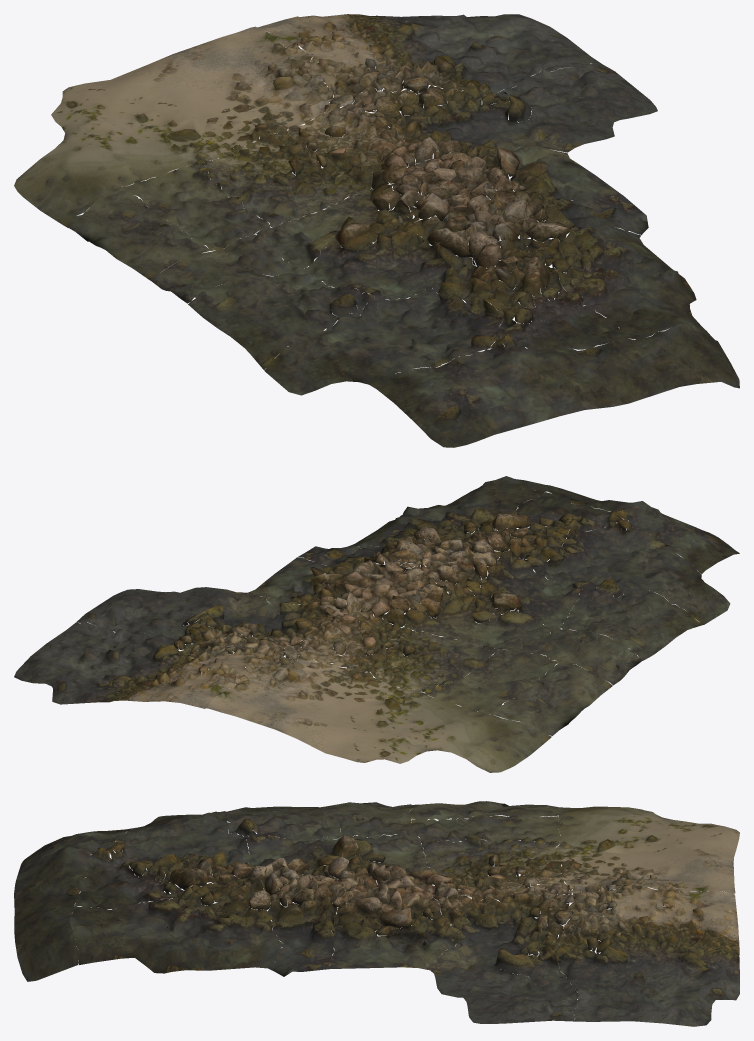
The model's file is shore_rocks_b.glb.
3 renders of one model, top to bottom at view 1: azimuth 30°, elevation 25°; view 2: azimuth 150°, elevation 25°; view 3: azimuth 270°, elevation 25°, orthographic. The views are drawn at different scales.
Visible parts, largest first — view 1: coast_rocks_03; view 2: coast_rocks_03; view 3: coast_rocks_03.
Boxes of the visible parts, x1=… form: coast_rocks_03: x1=14, y1=14, x2=739, y2=447; coast_rocks_03: x1=14, y1=476, x2=739, y2=772; coast_rocks_03: x1=14, y1=801, x2=739, y2=1026.
Size of the model in its own units: 21.13 by 3.19 by 28.28.
Materials: 1 (1 with a texture image).
